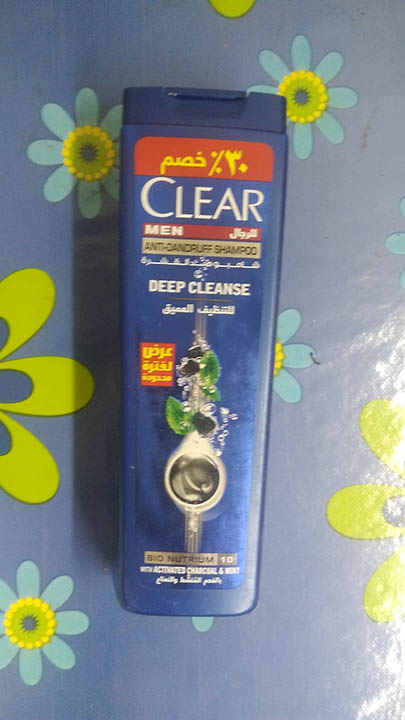Shampoo-Clear 4.7$: (110, 54, 266, 617)
